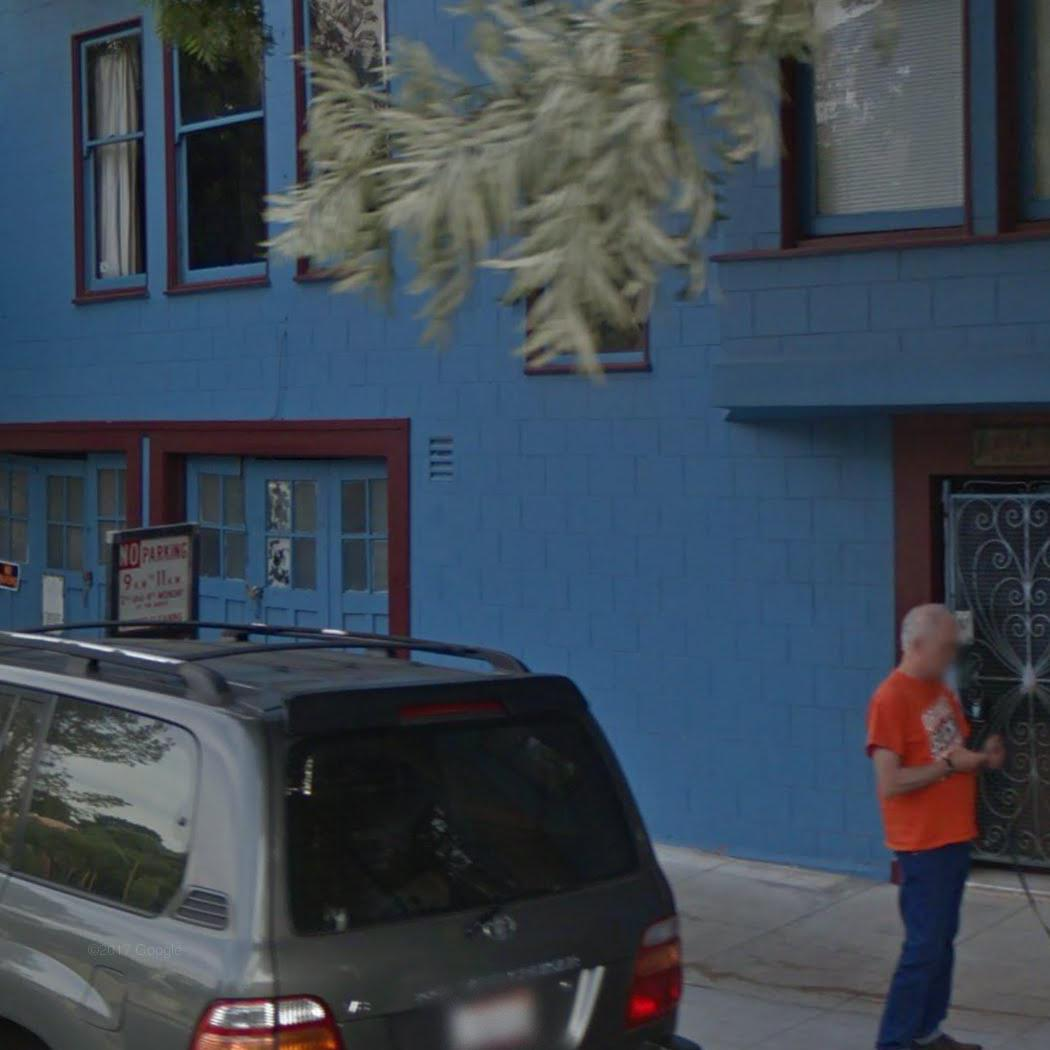No Parking: (113, 531, 195, 636)
